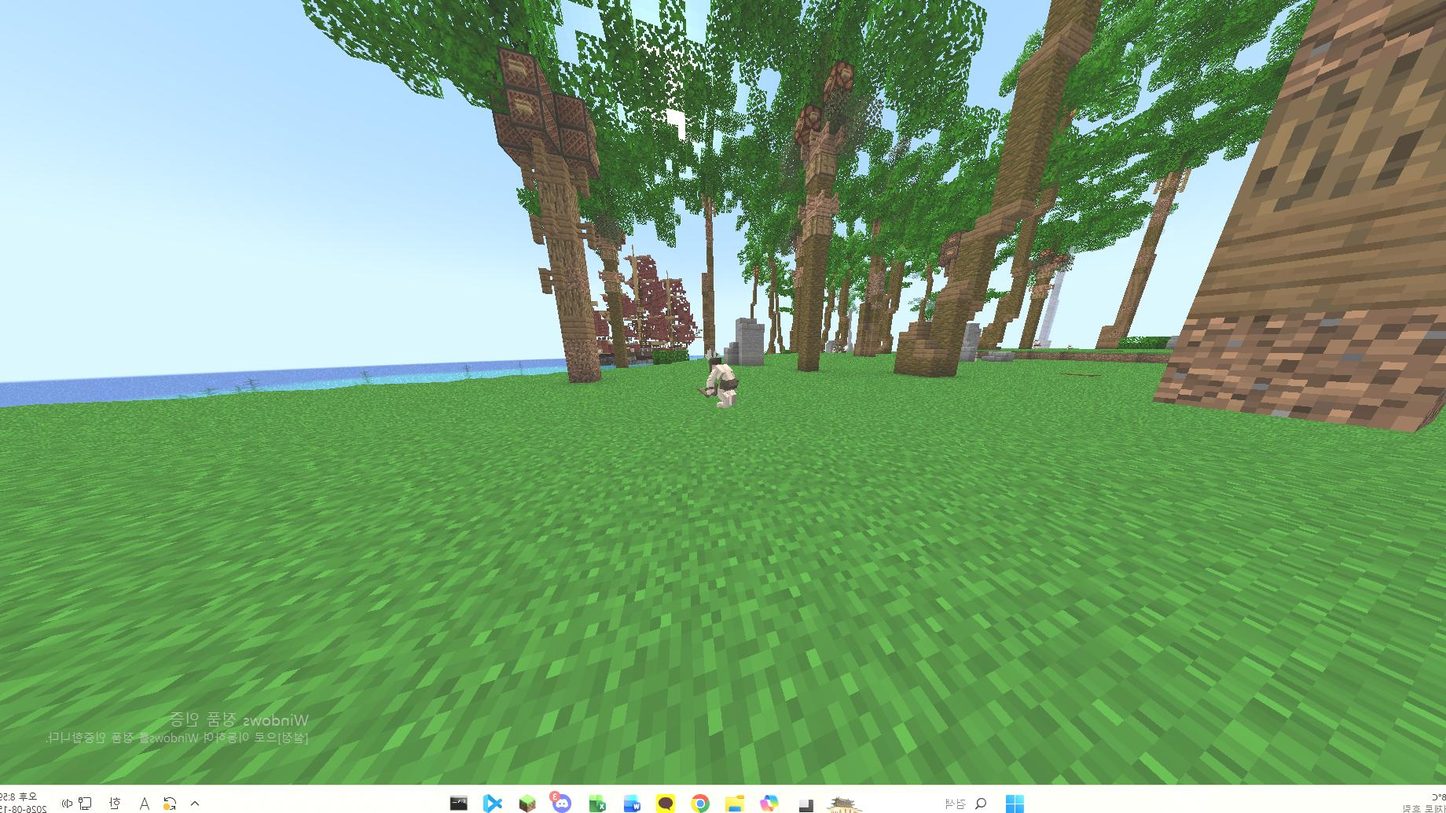bow_indian: (673, 348, 749, 420)
